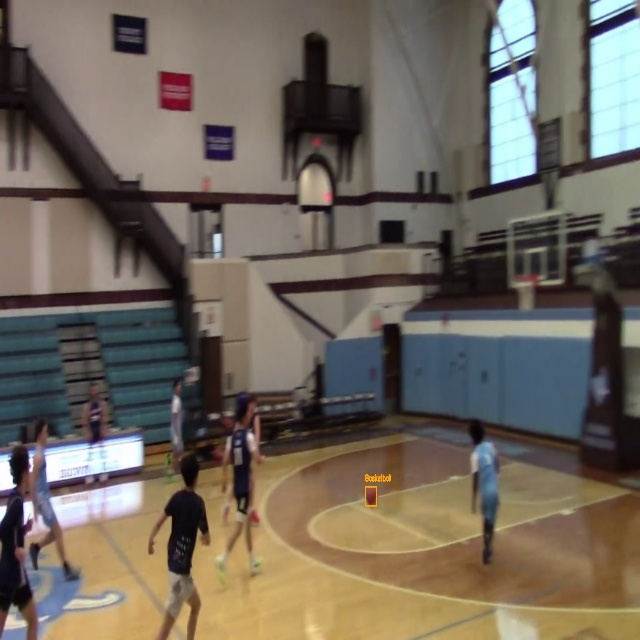Basketball: (365, 487, 377, 506)
